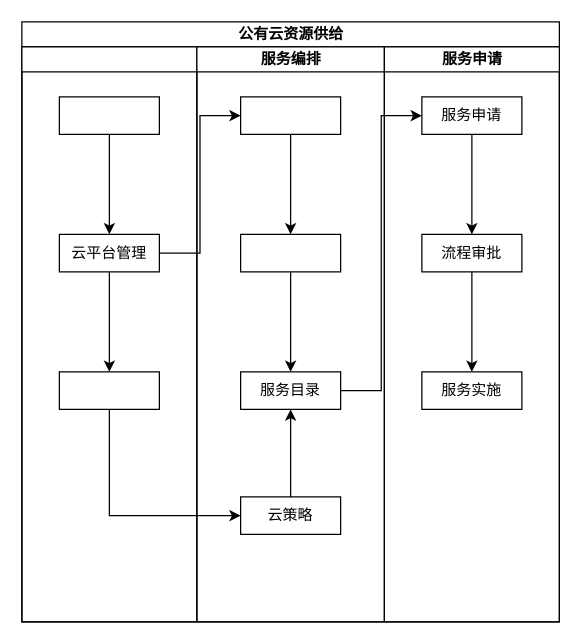
Image size: 581x644. Some labels were removed from this diagram. Here are the shapes that lost their labels. From the top down, the box of each, then its label:
(58, 96, 159, 134): 认证信息
(239, 96, 341, 134): 资源模版
(239, 233, 341, 272): 蓝图
(21, 46, 197, 622): 信息注册
(58, 371, 159, 409): 资源池
